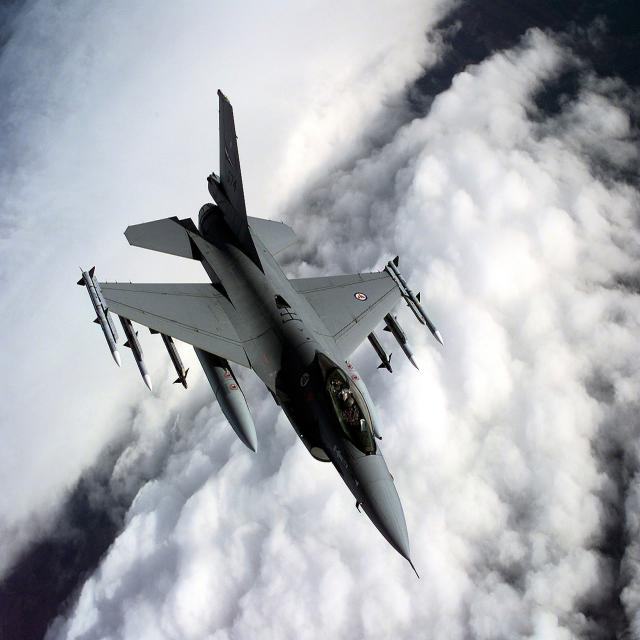MIL_Plane: (77, 88, 445, 580)
